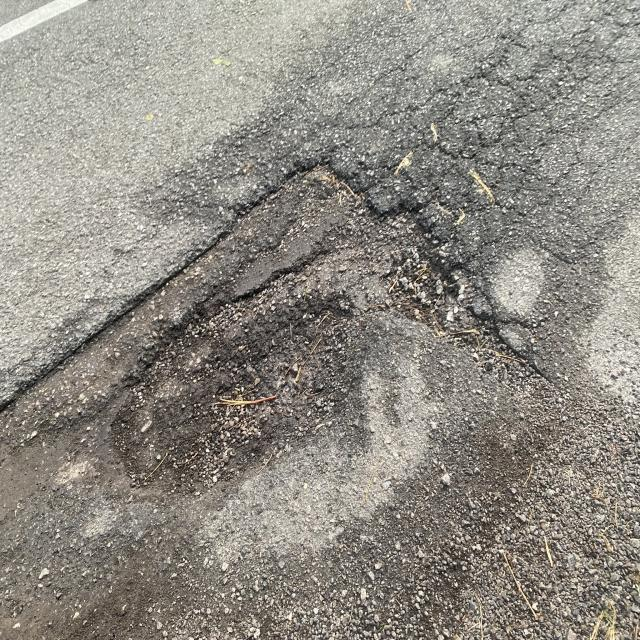pothole: (36, 199, 469, 429)
